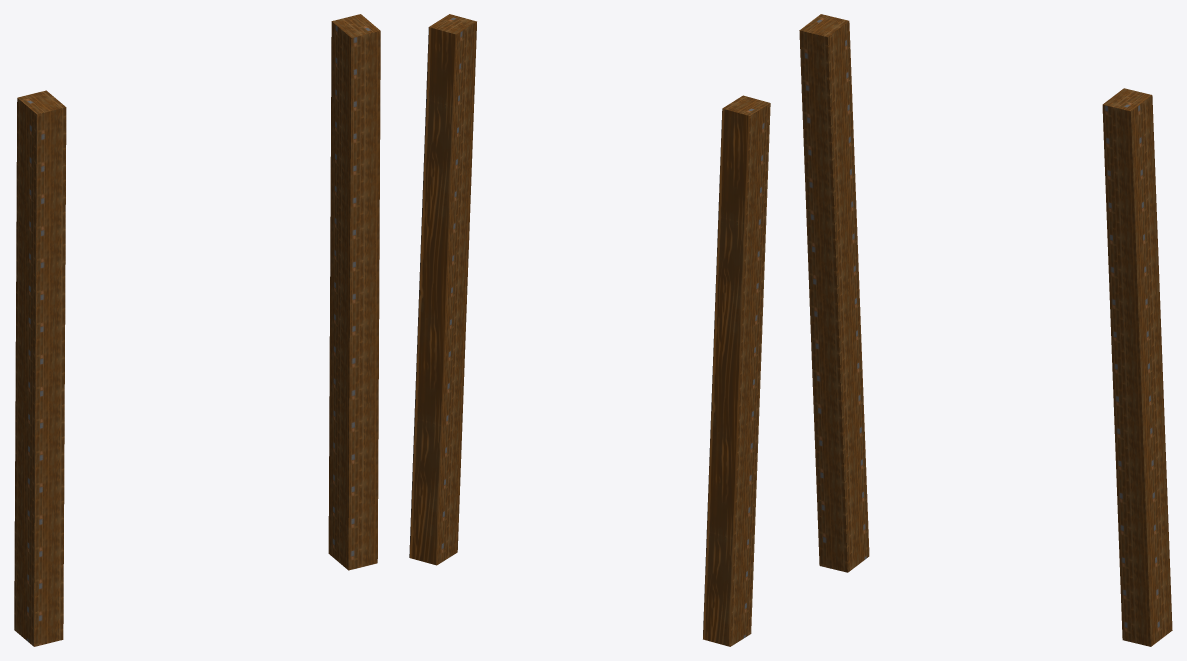
3 views of the same model, side by side, from view 1: azimuth 30°, elevation 25°; view 2: azimuth 150°, elevation 25°; view 3: azimuth 330°, elevation 25° (orthographic). The views are drawn at different scales.
Visible parts, largest first — view 1: Cube.2008; view 2: Cube.2008; view 3: Cube.2008.
Part boxes in pixels (<box>): Cube.2008: <box>14,14,380,646</box>; Cube.2008: <box>409,14,770,646</box>; Cube.2008: <box>799,14,1172,646</box>.
Bounding box in the file's own units: 668 × 1011 × 127.
Materials: 1 (1 with a texture image).
